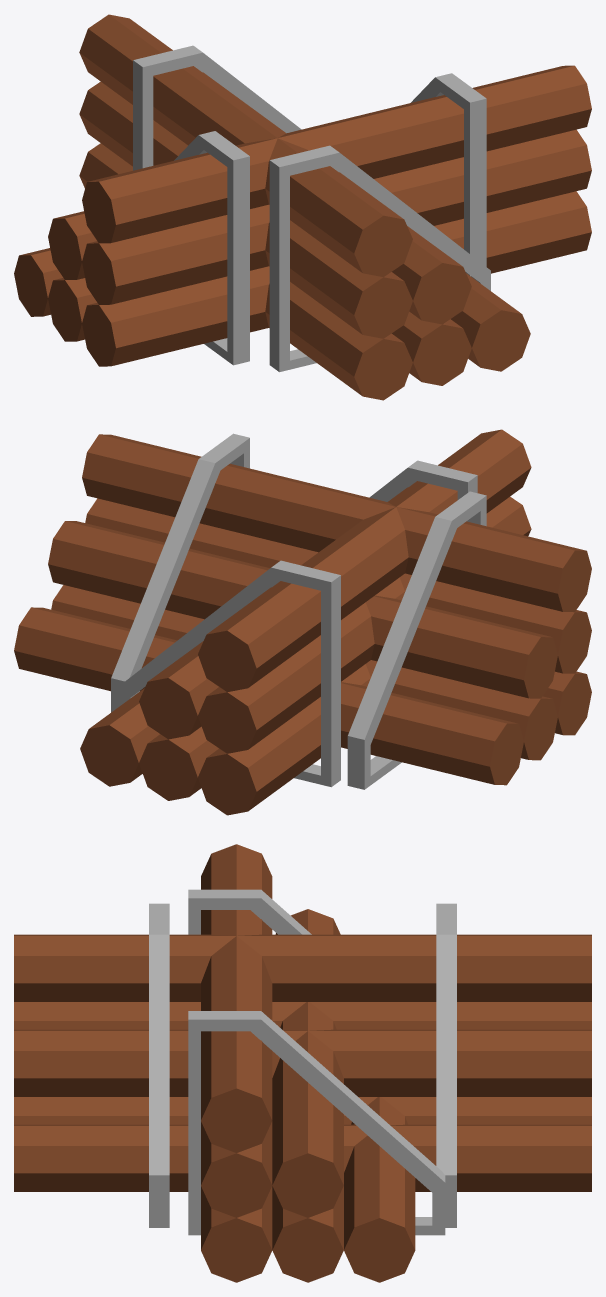
File: WallCross.fbx
3 views of the same model, one above another, from view 1: azimuth 30°, elevation 25°; view 2: azimuth 150°, elevation 25°; view 3: azimuth 270°, elevation 25° (orthographic). The views are drawn at different scales.
Visible parts, largest first — view 1: Tvora1.005; view 2: Tvora1.005; view 3: Tvora1.005.
Part boxes in pixels (x1,y1,x2,y2): Tvora1.005: (14, 14, 591, 400); Tvora1.005: (14, 429, 591, 815); Tvora1.005: (14, 844, 591, 1282).
Size of the model in its own units: 297 by 122 by 297.
